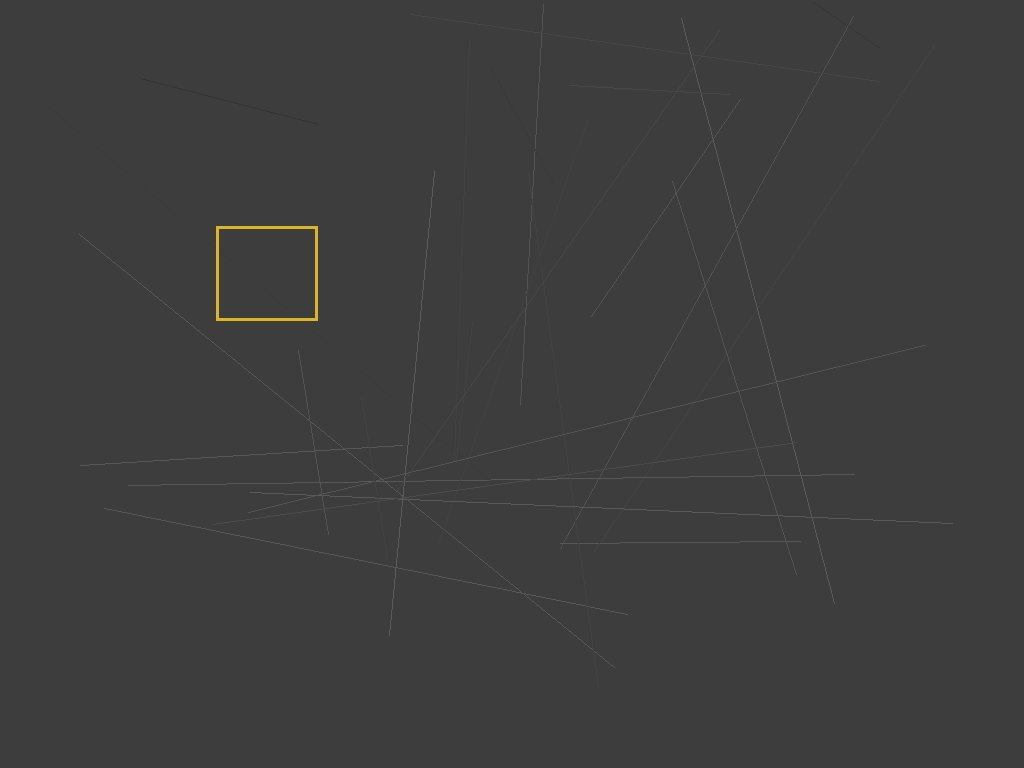D00: (216, 226, 317, 320)
